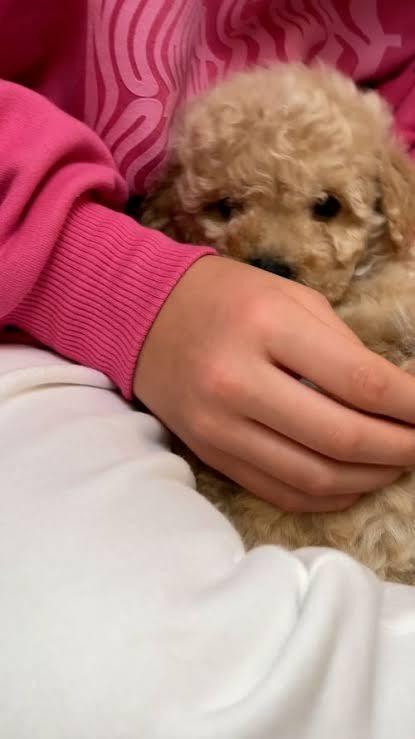non-dog: (1, 0, 415, 739)
puppy-dog: (136, 60, 415, 586)
